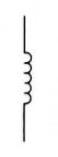inductor: (16, 35, 38, 110)
